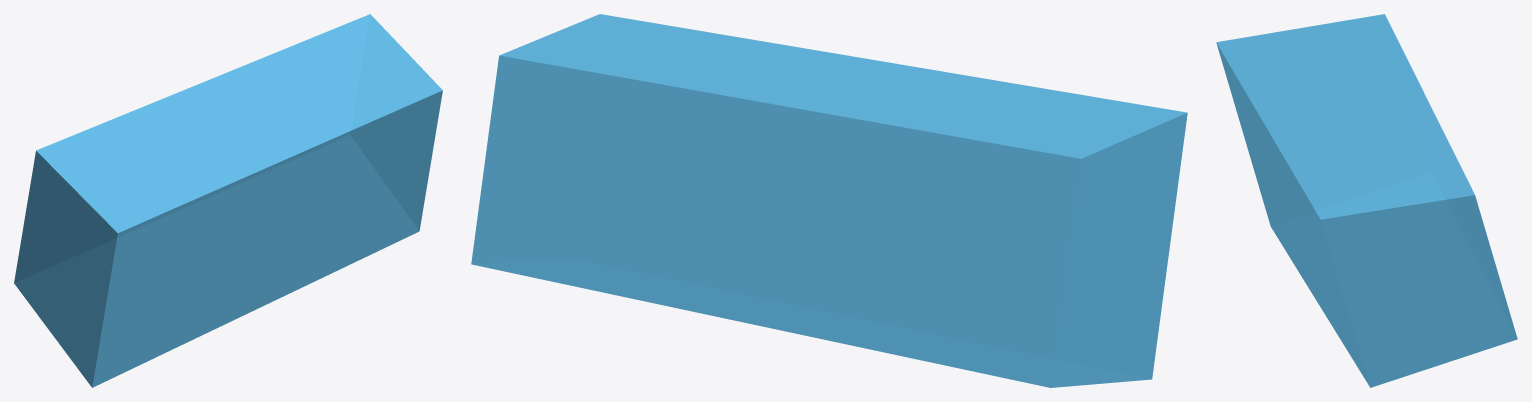
Rendered from Event_420107950_HErechit_11.fbx.
The picture shows the model from 3 angles, left to right: view 1: azimuth 30°, elevation 25°; view 2: azimuth 150°, elevation 25°; view 3: azimuth 270°, elevation 25°; orthographic projection. The views are drawn at different scales.
Visible parts, largest first — view 1: Model; view 2: Model; view 3: Model.
Part boxes in pixels (x1,y1,x2,y2): Model: (14,14,442,387); Model: (471,14,1187,387); Model: (1216,14,1517,387).
Size of the model in its own units: 0.9854 by 0.5307 by 0.6424.
